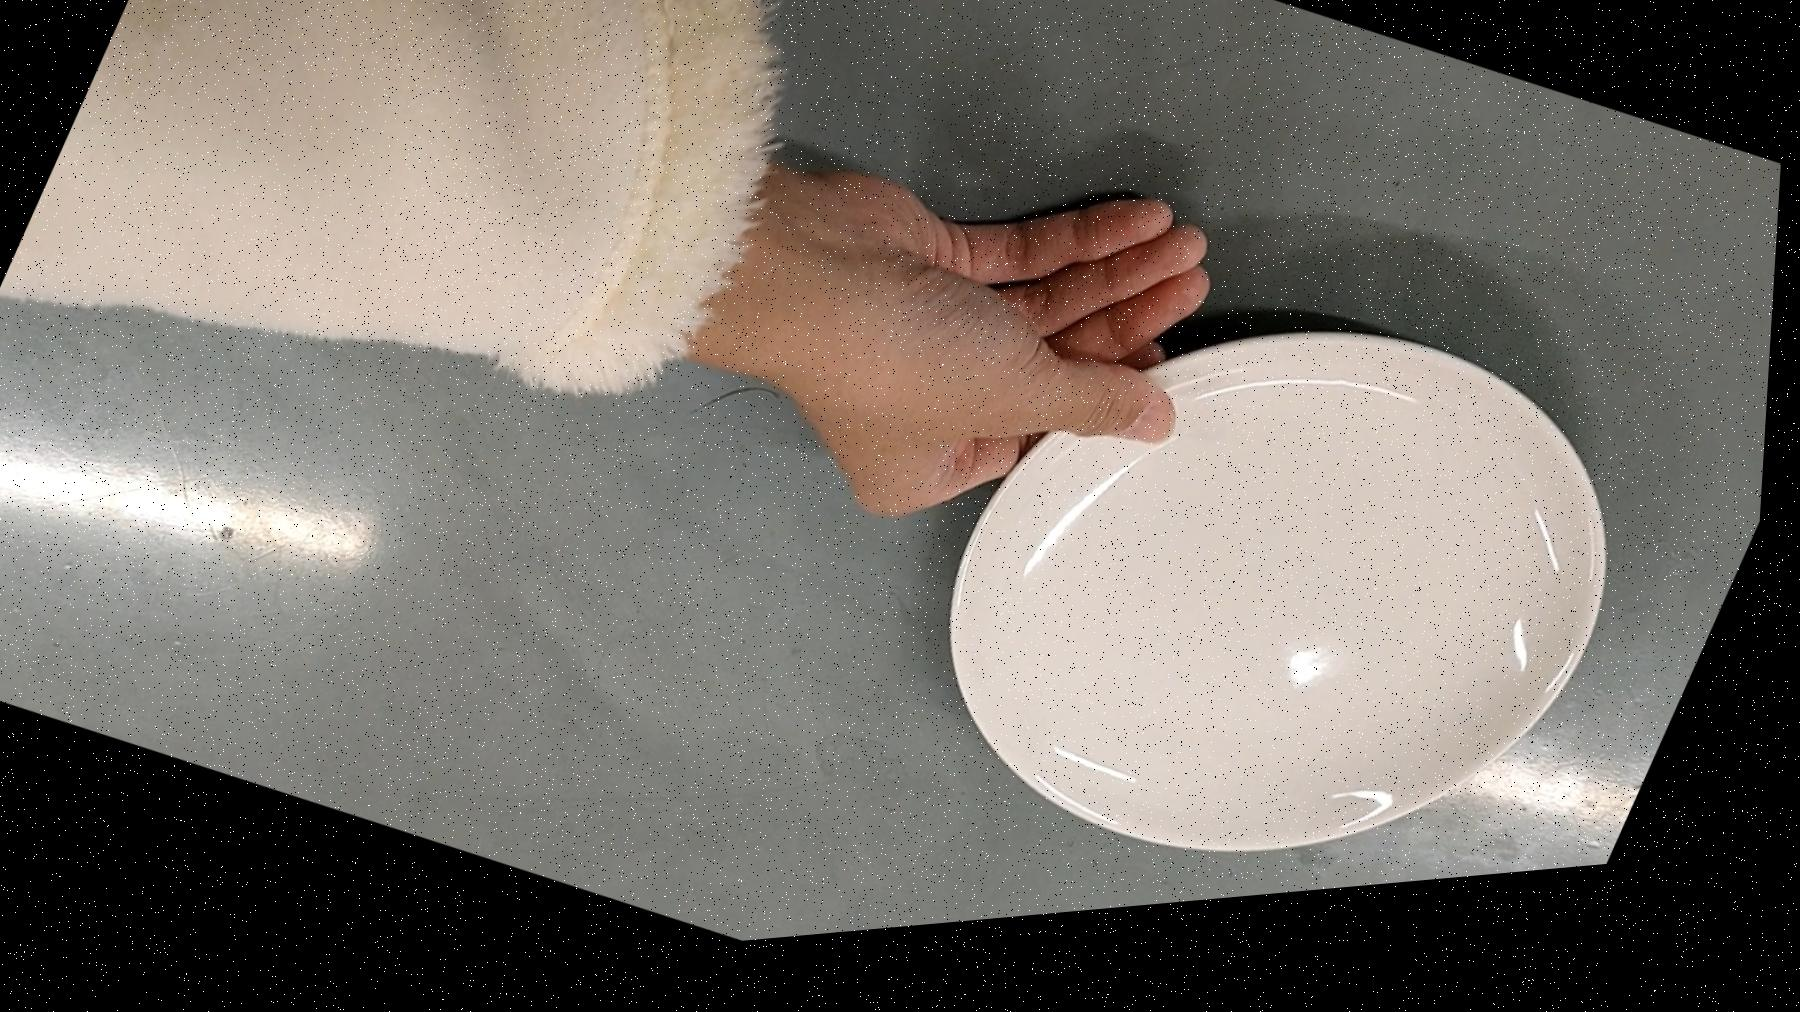plate: (869, 222, 1701, 948)
